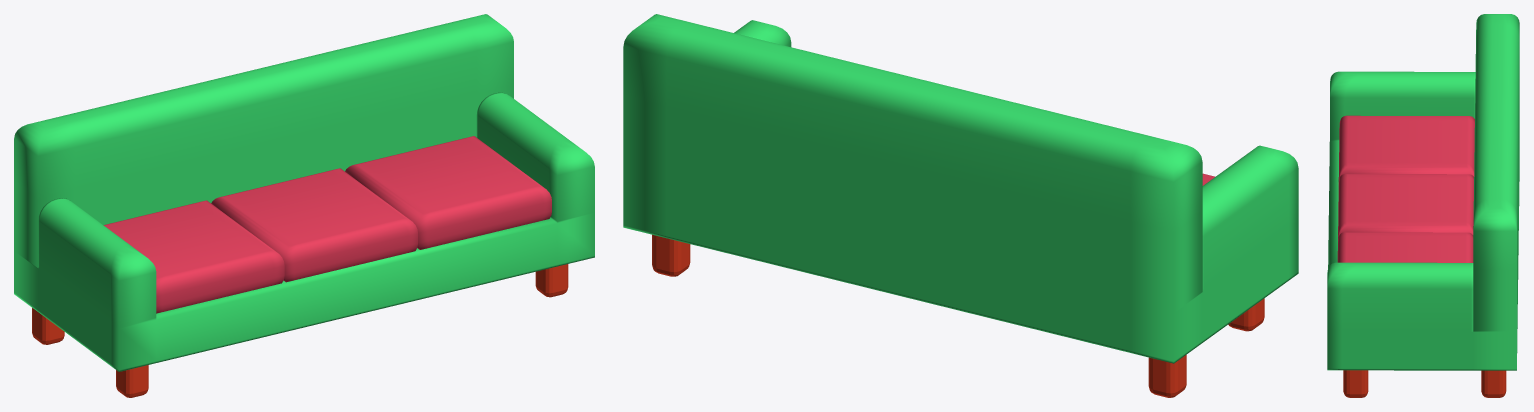
The model's file is Sofas.fbx.
3 renders of one model, left to right at view 1: azimuth 30°, elevation 25°; view 2: azimuth 150°, elevation 25°; view 3: azimuth 270°, elevation 25°, orthographic. The views are drawn at different scales.
Visible parts, largest first — view 1: Cube, Cube.003, Cube.002, Cube.001, Cube.005, Cube.004, Cube.007; view 2: Cube, Cube.007, Cube.023, Cube.004; view 3: Cube, Cube.002, Cube.001, Cube.003, Cube.005, Cube.023.
Boxes of the visible parts, left/top/right/bottom form: Cube: left=14, top=14, right=594, bottom=371; Cube.003: left=345, top=136, right=551, bottom=249; Cube.002: left=211, top=168, right=417, bottom=282; Cube.001: left=103, top=200, right=284, bottom=313; Cube.005: left=535, top=264, right=568, bottom=297; Cube.004: left=116, top=365, right=148, bottom=397; Cube.007: left=32, top=308, right=64, bottom=344; Cube: left=623, top=14, right=1298, bottom=363; Cube.007: left=1148, top=355, right=1186, bottom=397; Cube.023: left=652, top=234, right=690, bottom=276; Cube.004: left=1228, top=298, right=1264, bottom=331; Cube: left=1327, top=14, right=1519, bottom=370; Cube.002: left=1338, top=174, right=1473, bottom=239; Cube.001: left=1338, top=115, right=1474, bottom=181; Cube.003: left=1337, top=232, right=1473, bottom=262; Cube.005: left=1343, top=370, right=1368, bottom=397; Cube.023: left=1481, top=370, right=1506, bottom=397.
Bounding box in the file's own units: 34.27 × 14.75 × 13.42.
